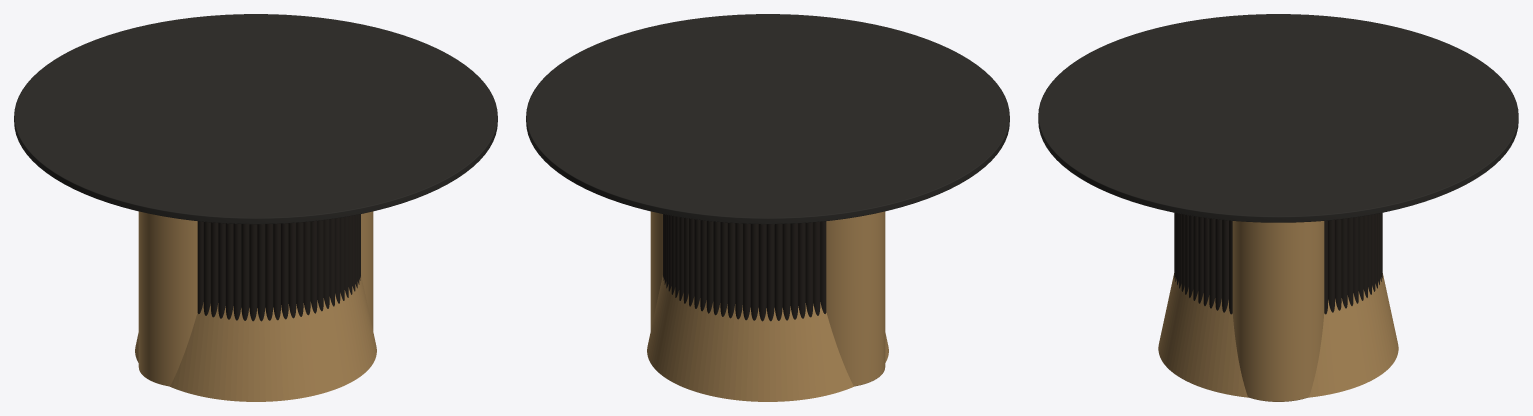
File: round.glb
3 views of the same model, side by side, from view 1: azimuth 30°, elevation 25°; view 2: azimuth 150°, elevation 25°; view 3: azimuth 270°, elevation 25° (orthographic).
Visible parts, largest first — view 1: Round stone top, Sculptural conical pedestal, Twin bronze column, Twin bronze column.001, Ebonised flute.053, Ebonised flute.054, Ebonised flute.052, Ebonised flute.051, Ebonised flute.055, Ebonised flute.050, Ebonised flute.058, Ebonised flute.048 (+12 smaller); view 2: Round stone top, Sculptural conical pedestal, Twin bronze column, Twin bronze column.001, Ebonised flute.026, Ebonised flute.027, Ebonised flute.028, Ebonised flute.025, Ebonised flute.029, Ebonised flute.030, Ebonised flute.022, Ebonised flute.032 (+12 smaller); view 3: Round stone top, Twin bronze column.001, Sculptural conical pedestal, Ebonised flute.007, Ebonised flute.073, Ebonised flute.008, Ebonised flute.072, Ebonised flute.009, Ebonised flute.071, Ebonised flute.010, Ebonised flute.070, Ebonised flute.011 (+3 smaller).
Boxes of the visible parts, box(x1,y1,x2,y2) form: Round stone top: box(14, 14, 497, 224); Sculptural conical pedestal: box(135, 275, 376, 401); Twin bronze column: box(138, 211, 197, 386); Twin bronze column.001: box(361, 211, 373, 330); Ebonised flute.053: box(249, 224, 257, 321); Ebonised flute.054: box(257, 224, 265, 321); Ebonised flute.052: box(241, 224, 249, 320); Ebonised flute.051: box(233, 223, 241, 320); Ebonised flute.055: box(265, 224, 273, 320); Ebonised flute.050: box(225, 223, 233, 319); Ebonised flute.058: box(288, 223, 296, 318); Ebonised flute.048: box(210, 222, 218, 317); Round stone top: box(526, 14, 1009, 224); Sculptural conical pedestal: box(647, 275, 888, 401); Twin bronze column: box(826, 211, 885, 386); Twin bronze column.001: box(650, 211, 662, 330); Ebonised flute.026: box(758, 224, 766, 321); Ebonised flute.027: box(766, 224, 774, 321); Ebonised flute.028: box(774, 224, 782, 320); Ebonised flute.025: box(750, 224, 758, 320); Ebonised flute.029: box(782, 223, 790, 320); Ebonised flute.030: box(790, 223, 798, 319); Ebonised flute.022: box(727, 223, 735, 318); Ebonised flute.032: box(805, 222, 813, 317); Round stone top: box(1038, 14, 1518, 222); Twin bronze column.001: box(1232, 221, 1324, 401); Sculptural conical pedestal: box(1158, 273, 1398, 397); Ebonised flute.007: box(1328, 220, 1334, 312); Ebonised flute.073: box(1222, 220, 1228, 312); Ebonised flute.008: box(1335, 219, 1341, 310); Ebonised flute.072: box(1215, 219, 1221, 310); Ebonised flute.009: box(1341, 218, 1347, 308); Ebonised flute.071: box(1209, 218, 1215, 308); Ebonised flute.010: box(1347, 217, 1353, 305); Ebonised flute.070: box(1203, 217, 1209, 305); Ebonised flute.011: box(1353, 217, 1358, 303).
Bounding box in the file's own units: 1.4 × 0.75 × 1.4.
